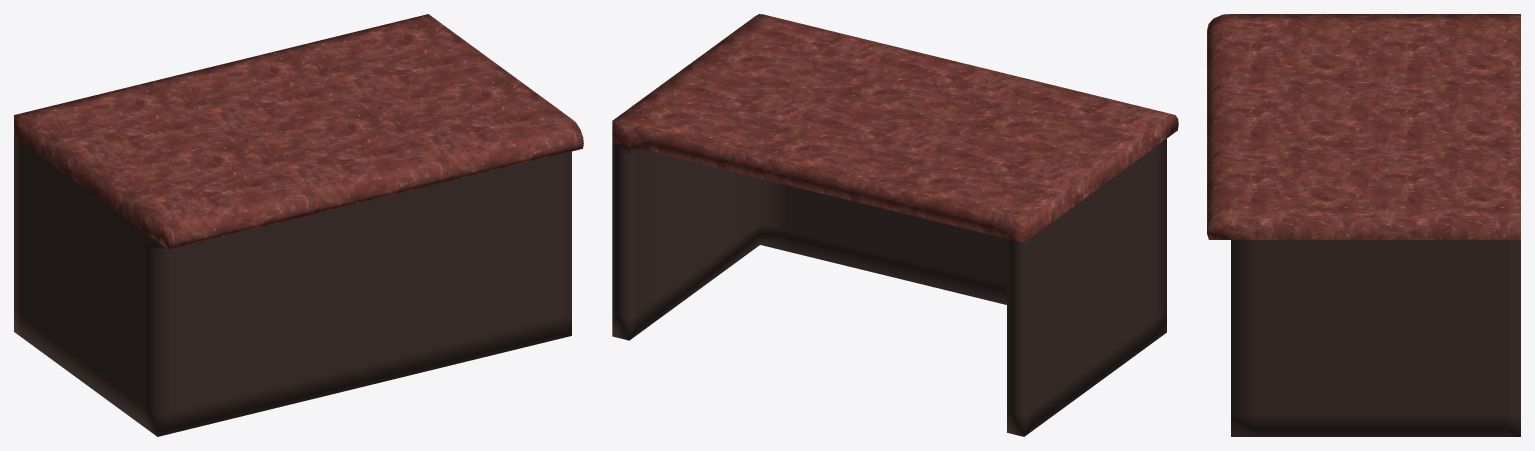
The model's file is counterHollow.gltf.
The picture shows the model from 3 angles, left to right: view 1: azimuth 30°, elevation 25°; view 2: azimuth 150°, elevation 25°; view 3: azimuth 270°, elevation 25°; orthographic projection.
Parts seen in each view (by area): view 1: counterHollow; view 2: counterHollow; view 3: counterHollow.
Boxes of the visible parts, x1,y1,x2,y2 form: counterHollow: (14, 14, 583, 436); counterHollow: (612, 14, 1178, 436); counterHollow: (1207, 14, 1520, 436).
Size of the model in its own units: 2 by 1 by 1.3.
Materials: 2 (1 with a texture image).
